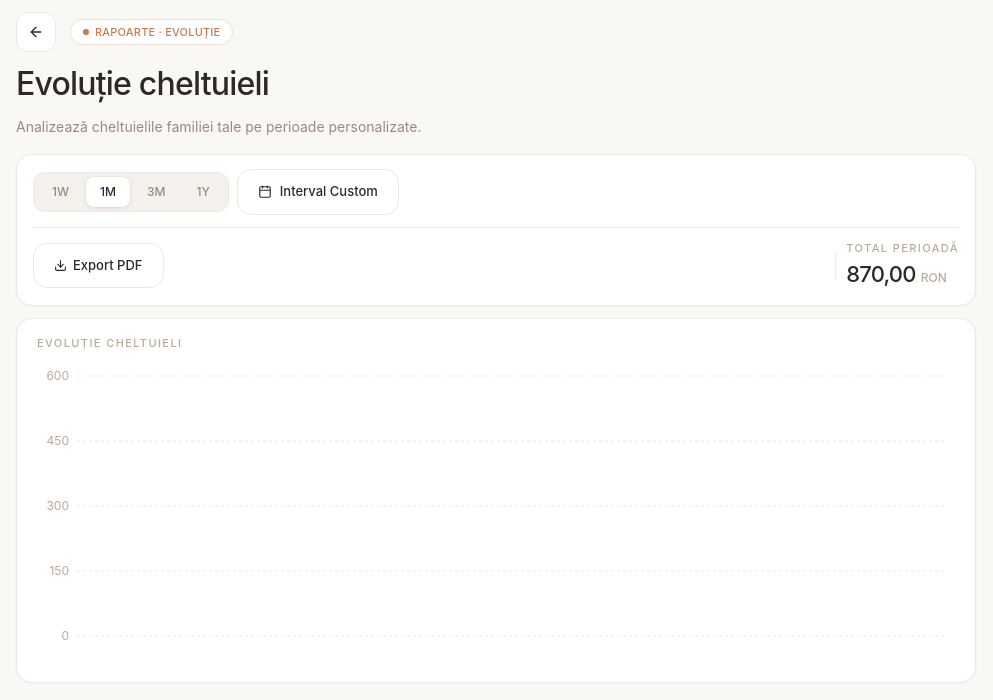
Test: Reports Component › afișează loading la schimbarea tab-ului
Click the button "3M": point(156, 192) [133,177,180,207]
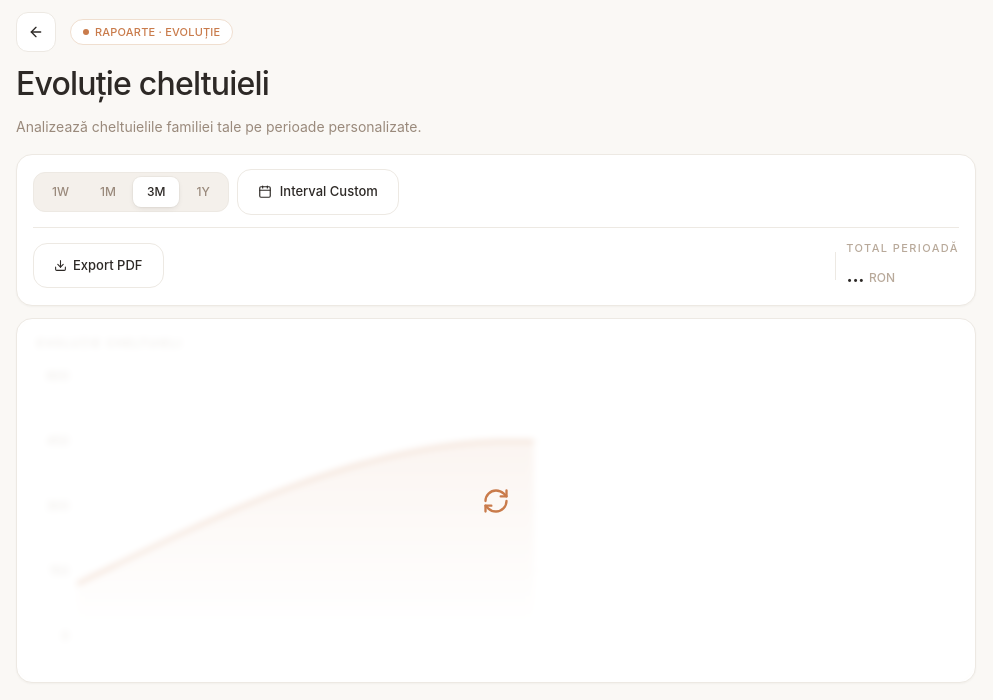
Now the icon with class "lucide-refresh-cw" is shown, box [482,487,510,515]
